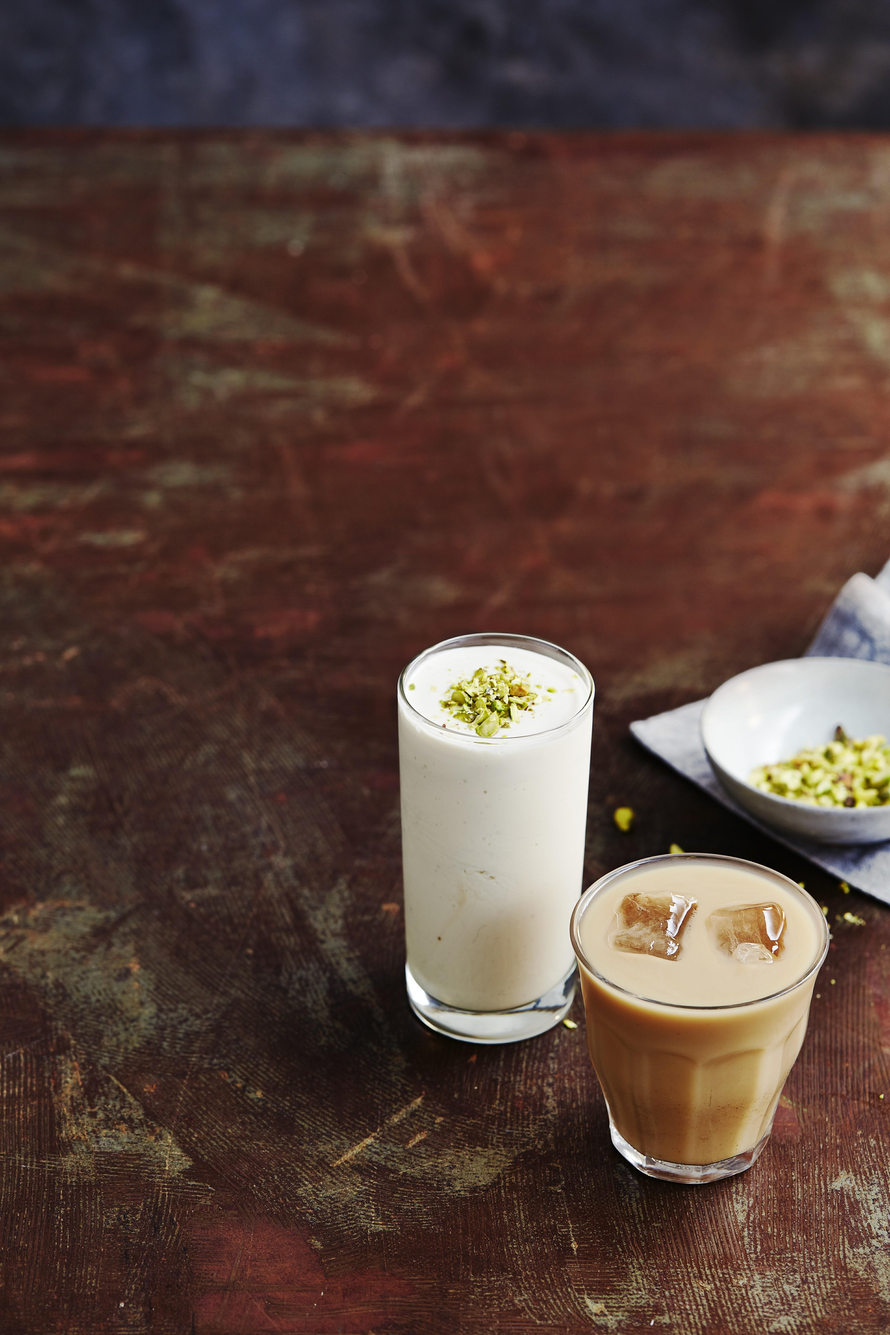Chai: (573, 863, 822, 1165)
Lassi: (399, 643, 589, 1009)
